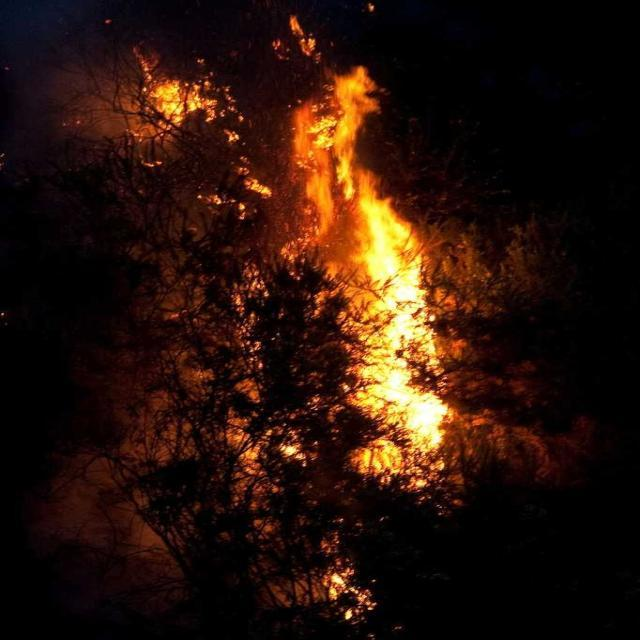Fire: (271, 48, 470, 484), (118, 42, 208, 120)
